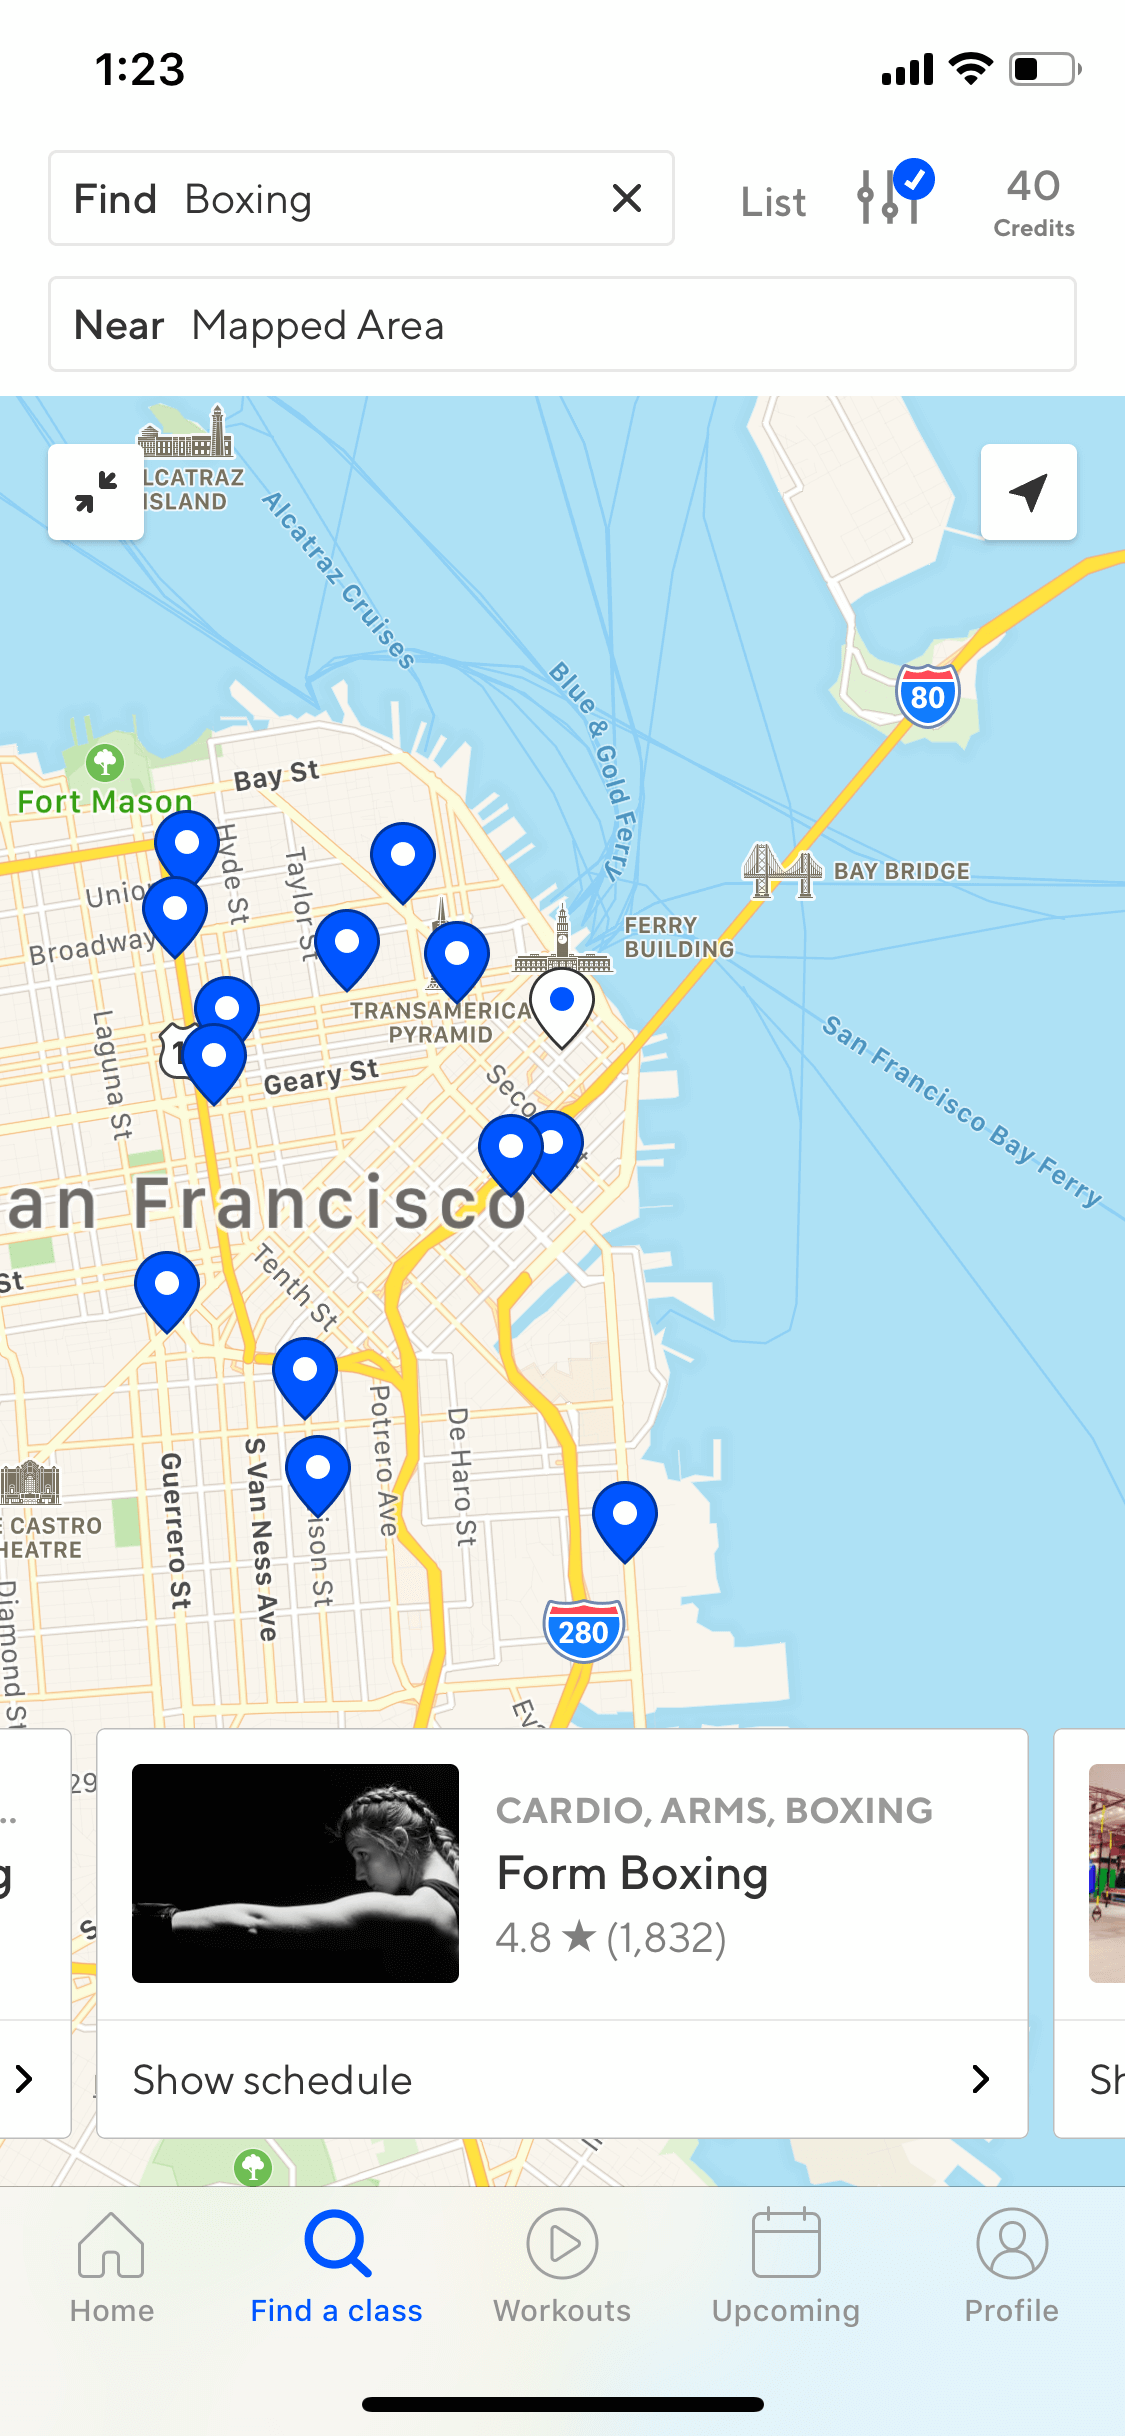Buttons: (712, 152, 839, 247), (838, 152, 956, 245), (984, 152, 1081, 245)
FAB (Floating Action Button): (963, 430, 1089, 548), (37, 429, 154, 555)
